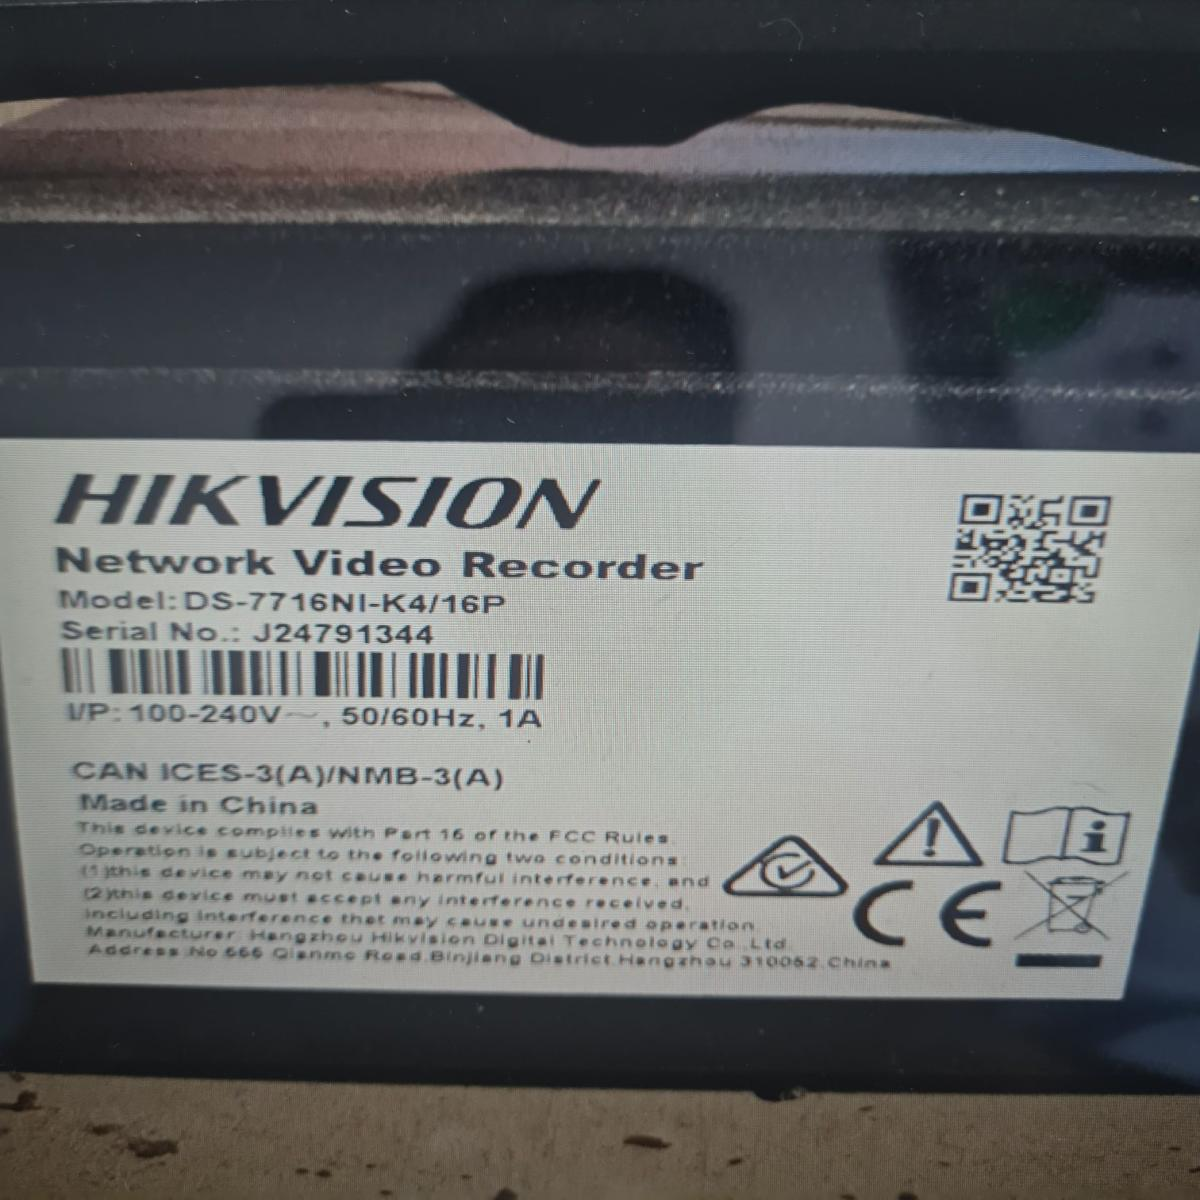Barcode: (45, 645, 577, 710)
Label: (2, 441, 1193, 990)
